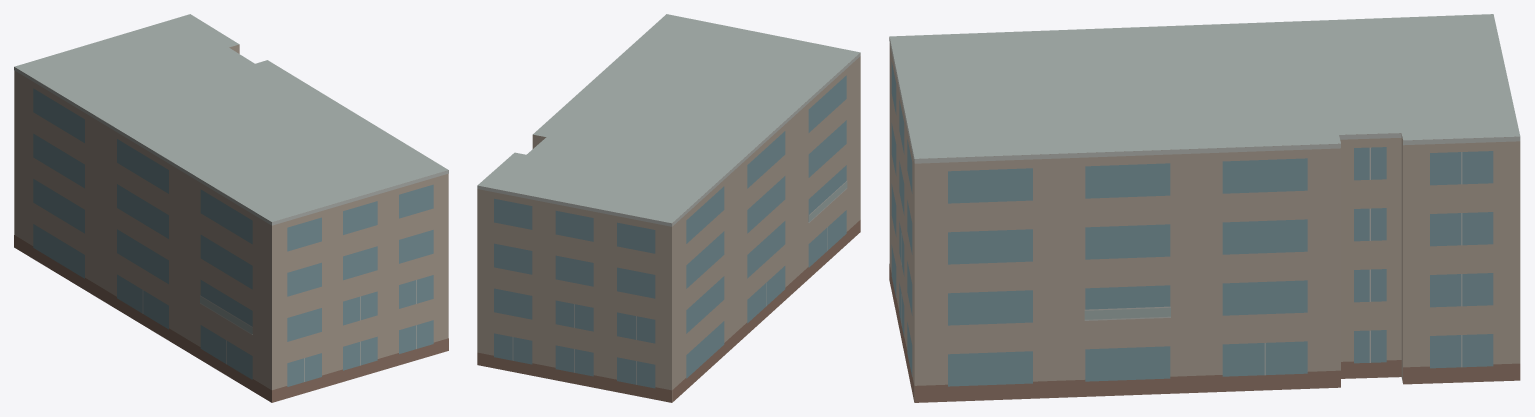
The model's file is survey-upis-32630738.glb.
3 views of the same model, side by side, from view 1: azimuth 30°, elevation 25°; view 2: azimuth 150°, elevation 25°; view 3: azimuth 270°, elevation 25° (orthographic). The views are drawn at different scales.
Visible parts, largest first — view 1: survey-upis-32630738.tmp; view 2: survey-upis-32630738.tmp; view 3: survey-upis-32630738.tmp.
Boxes of the visible parts, bbox=[...] form: survey-upis-32630738.tmp: bbox=[14, 14, 448, 402]; survey-upis-32630738.tmp: bbox=[477, 14, 860, 402]; survey-upis-32630738.tmp: bbox=[889, 14, 1520, 402].
Size of the model in its own units: 15.94 by 12.5 by 29.31.
